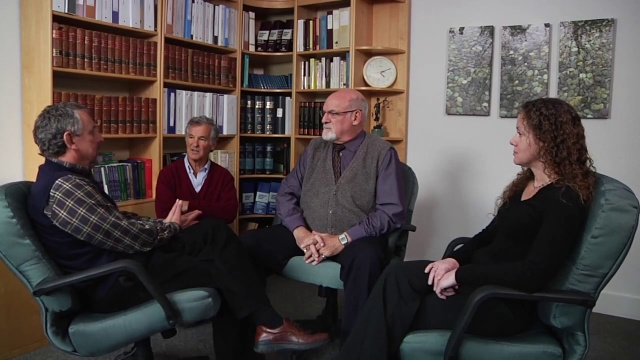person: (15, 98, 267, 354), (398, 95, 636, 353), (242, 88, 406, 351), (147, 115, 242, 232)
